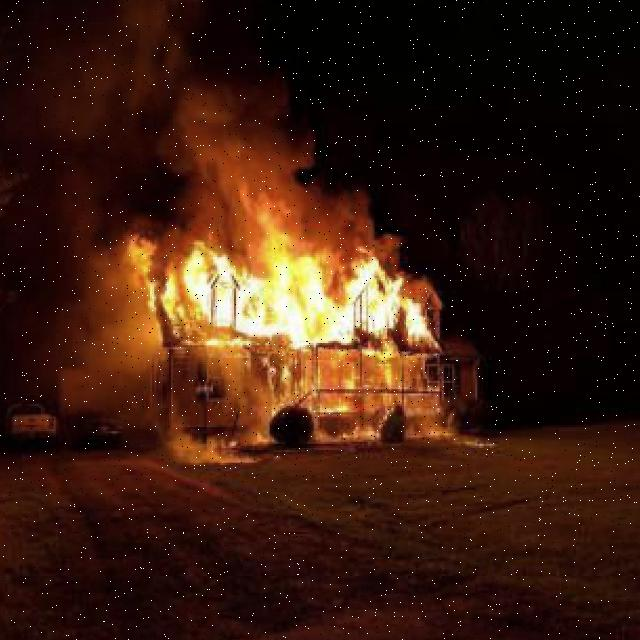fire: (120, 234, 443, 354), (253, 352, 444, 394), (236, 171, 295, 234)
smoke: (255, 398, 463, 450), (165, 83, 303, 142), (85, 316, 169, 408), (131, 412, 253, 471), (167, 142, 236, 234), (297, 158, 381, 232), (68, 211, 123, 316), (209, 354, 253, 408)
